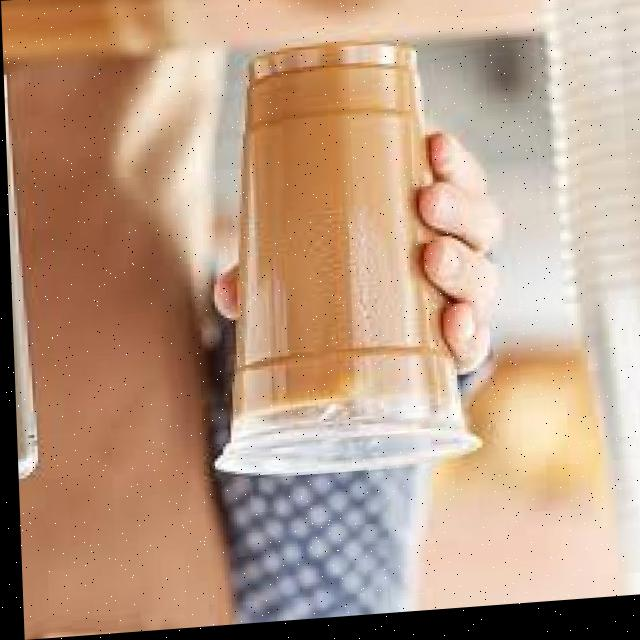cup: (164, 16, 516, 502)
